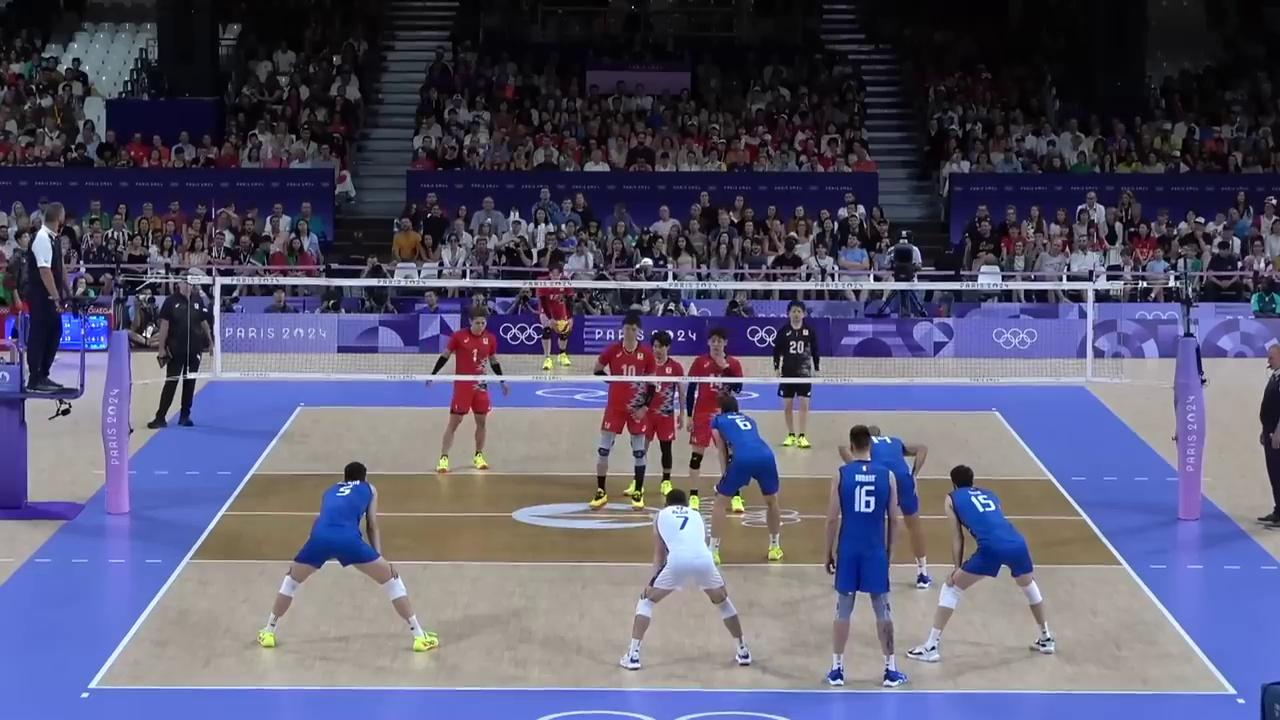ball: (557, 318, 569, 332)
